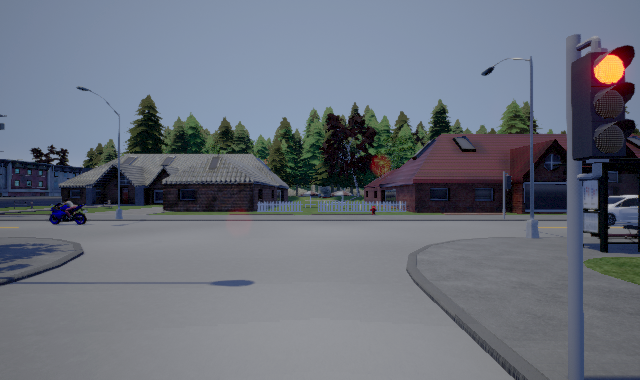motobike: (49, 203, 88, 225)
traffic_light: (571, 36, 636, 181)
vehicle: (608, 195, 638, 226)
